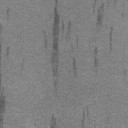red iron: (42, 0, 78, 97), (0, 41, 10, 128), (93, 0, 116, 27), (68, 57, 77, 78), (81, 108, 88, 128), (94, 47, 99, 73), (50, 115, 60, 128), (110, 27, 113, 52), (6, 8, 9, 16), (0, 24, 2, 34)
